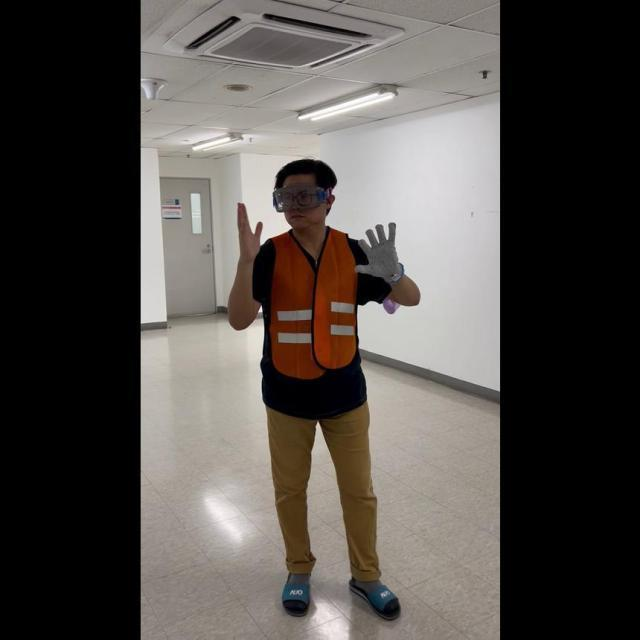bare_hand: (233, 199, 262, 262)
gloved_hand: (352, 219, 405, 283)
